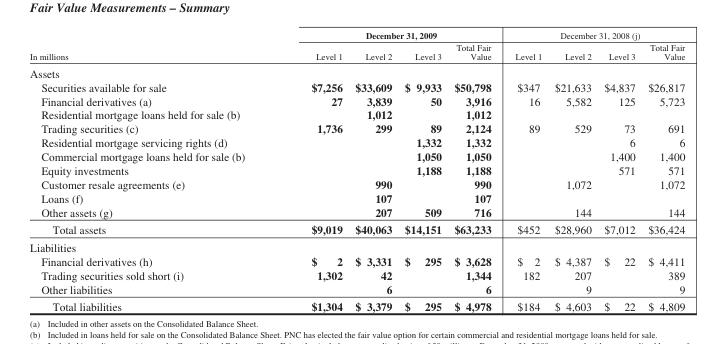table: (29, 29, 684, 312)
table column: (29, 29, 277, 312), (277, 29, 348, 312), (447, 29, 502, 312), (397, 29, 447, 312), (547, 29, 597, 312), (348, 29, 397, 312), (502, 29, 547, 312), (597, 29, 641, 312), (641, 29, 684, 312)
table column header: (29, 29, 684, 63)
table projected row header: (29, 63, 684, 79), (29, 238, 684, 253)
table row: (29, 40, 684, 63), (29, 220, 684, 238), (29, 63, 684, 79), (29, 204, 684, 220), (29, 281, 684, 297), (29, 238, 684, 253), (29, 297, 684, 312), (29, 79, 684, 93), (29, 93, 684, 107), (29, 107, 684, 121), (29, 121, 684, 135), (29, 135, 684, 149), (29, 149, 684, 163), (29, 176, 684, 190), (29, 190, 684, 204), (29, 253, 684, 267), (29, 267, 684, 281), (29, 163, 684, 176), (29, 29, 684, 40)
table spanning cell: (29, 29, 277, 63), (277, 29, 502, 40), (502, 29, 684, 40)
